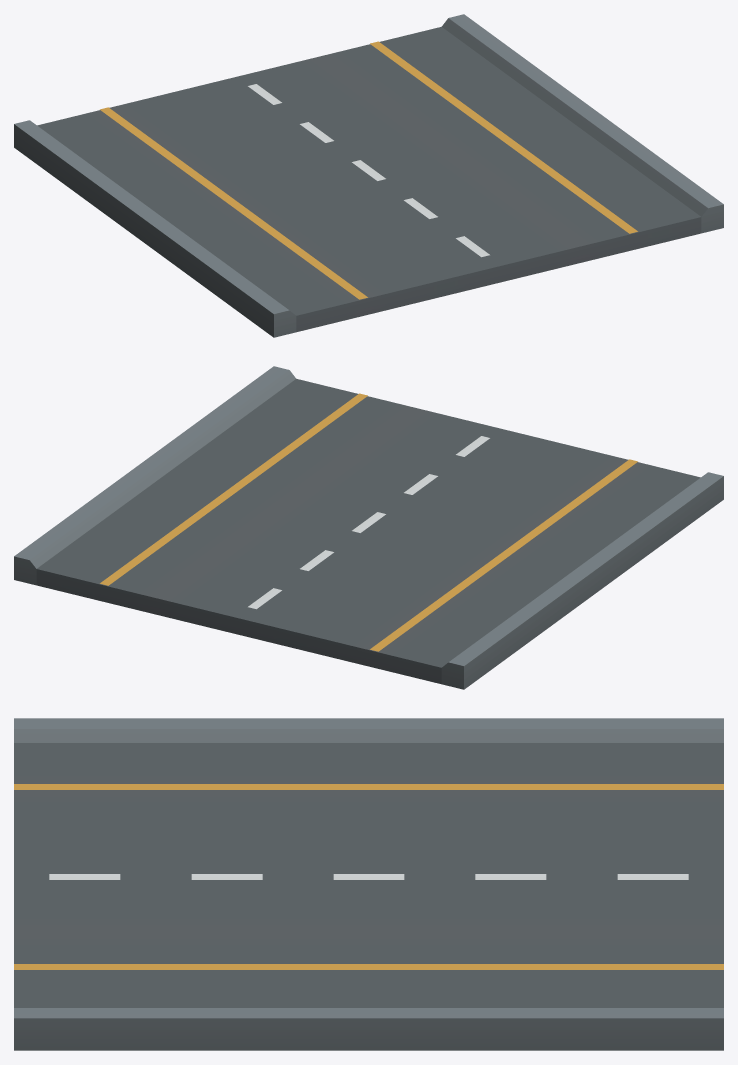
File: kaykit-road-straight.glb
The picture shows the model from 3 angles, top to bottom: view 1: azimuth 30°, elevation 25°; view 2: azimuth 150°, elevation 25°; view 3: azimuth 270°, elevation 25°; orthographic projection. The views are drawn at different scales.
Visible parts, largest first — view 1: road_straight; view 2: road_straight; view 3: road_straight.
Part boxes in pixels (box(x1,y1,x2,y2)): road_straight: box(14, 14, 723, 337); road_straight: box(14, 366, 723, 689); road_straight: box(14, 718, 723, 1050).
Bounding box in the file's own units: 2 × 0.1001 × 2.
Materials: 1 (1 with a texture image).
